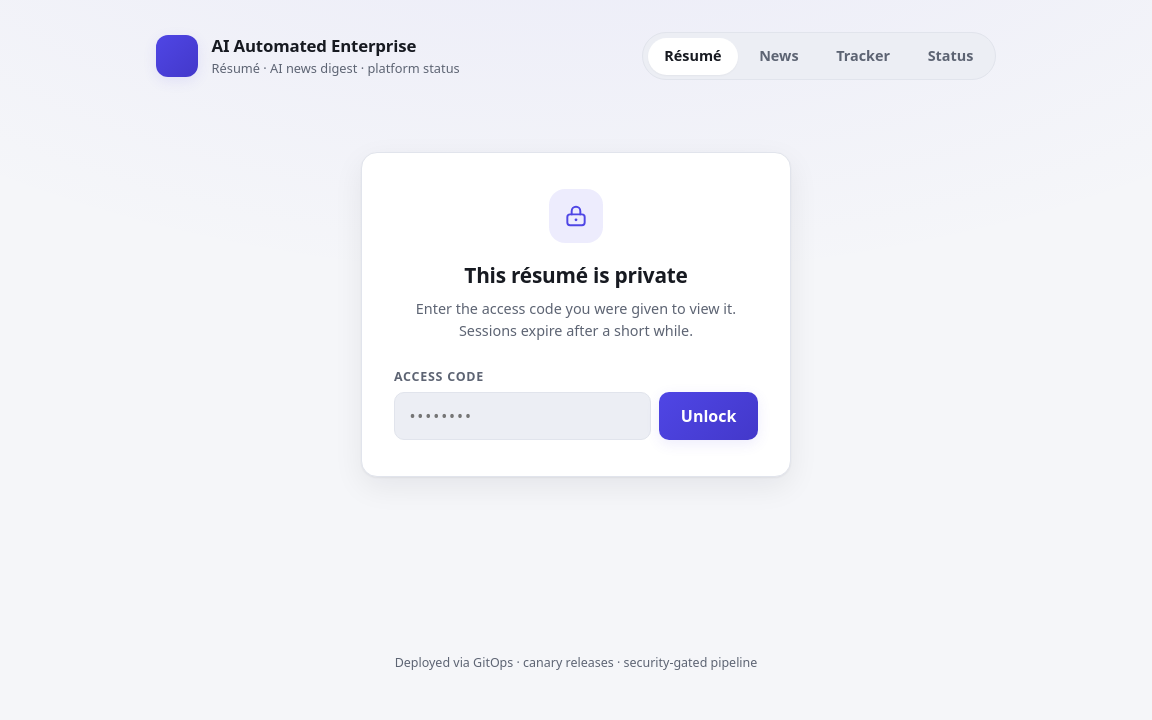
Test: App › switches to the tracker dashboard tab
Click the button "Tracker" at [863, 56], box top-left (819, 38), bottom-right (907, 74)
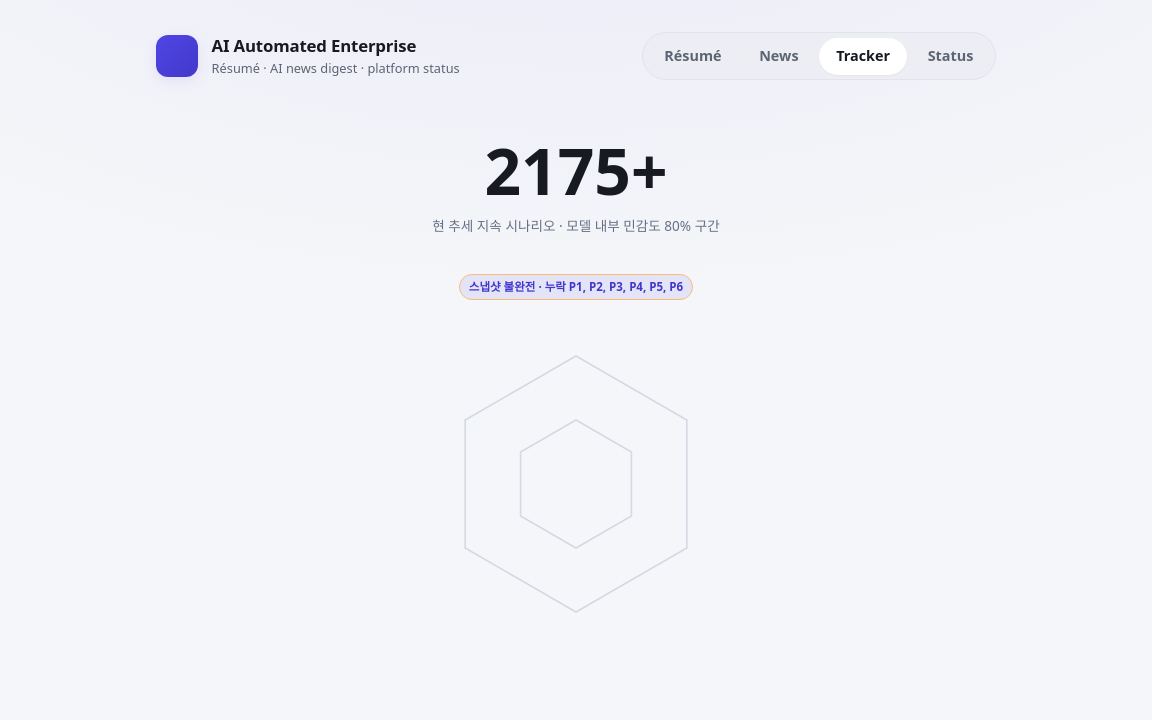
Check: the text "2175+" is shown, box top-left (484, 127), bottom-right (668, 214)
